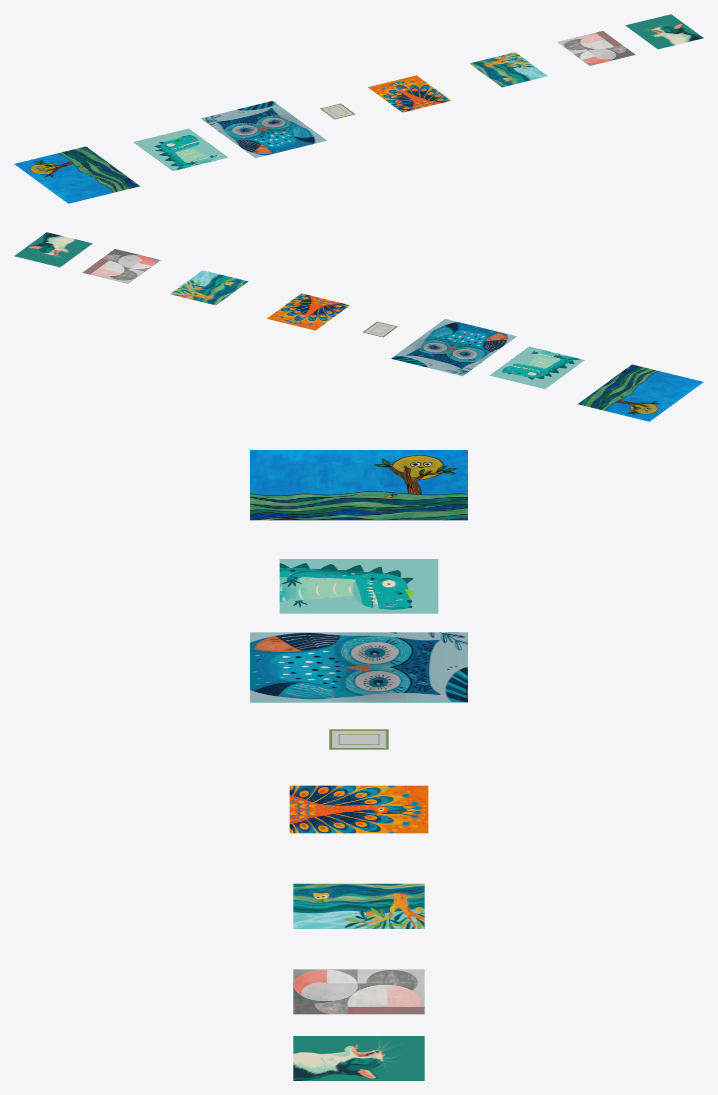
File: Rugs.fbx
3 views of the same model, one above another, from view 1: azimuth 30°, elevation 25°; view 2: azimuth 150°, elevation 25°; view 3: azimuth 270°, elevation 25° (orthographic). The views are drawn at different scales.
Visible parts, largest first — view 1: Rug, Rug.006, Rug.002, Rug.007, Rug.005, Rug.004, Rug.001, Rug.003; view 2: Rug, Rug.006, Rug.002, Rug.007, Rug.005, Rug.004, Rug.001, Rug.003; view 3: Rug, Rug.006, Rug.002, Rug.007, Rug.001, Rug.004, Rug.005, Rug.003.
Part boxes in pixels (x1,y1,x2,y2): Rug: [201, 101, 326, 158]; Rug.006: [14, 146, 139, 203]; Rug.002: [133, 128, 228, 170]; Rug.007: [368, 75, 450, 112]; Rug.005: [625, 14, 703, 49]; Rug.004: [469, 52, 547, 87]; Rug.001: [557, 31, 635, 65]; Rug.003: [320, 103, 355, 119]; Rug: [391, 319, 516, 376]; Rug.006: [578, 364, 703, 421]; Rug.002: [489, 346, 584, 388]; Rug.007: [267, 293, 349, 330]; Rug.005: [14, 232, 92, 267]; Rug.004: [170, 270, 248, 305]; Rug.001: [82, 249, 160, 283]; Rug.003: [362, 321, 397, 337]; Rug: [250, 632, 467, 702]; Rug.006: [250, 450, 467, 520]; Rug.002: [279, 559, 438, 613]; Rug.007: [289, 785, 428, 833]; Rug.001: [293, 969, 424, 1014]; Rug.004: [293, 883, 424, 928]; Rug.005: [293, 1036, 424, 1080]; Rug.003: [329, 729, 388, 749].
Bounding box in the file's own units: 2277 × 5.41e-05 × 332.
Materials: 1 (1 with a texture image).
